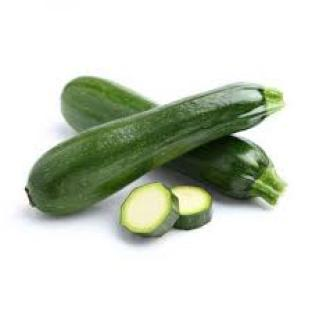Zucchini: (27, 84, 282, 214), (168, 136, 284, 203), (121, 182, 178, 237), (172, 186, 212, 230)
